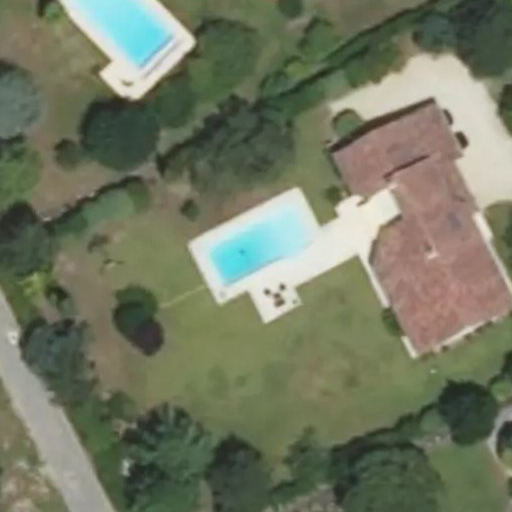pool: (202, 194, 318, 288), (62, 2, 184, 75)
